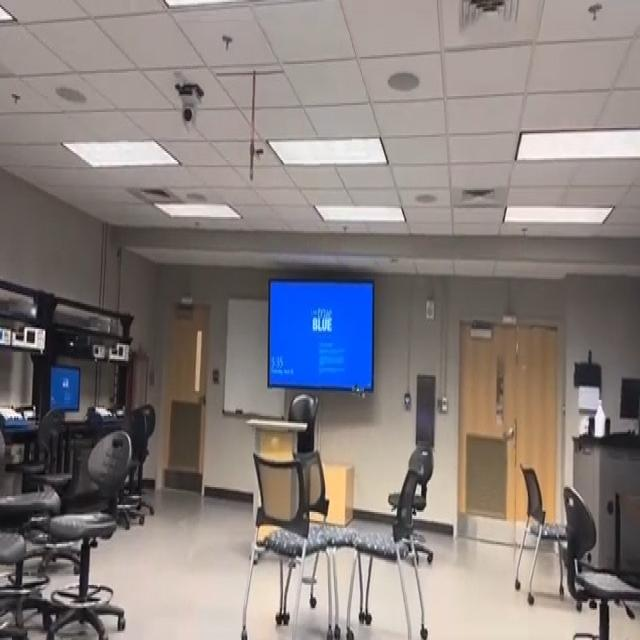drone: (348, 377, 370, 412)
